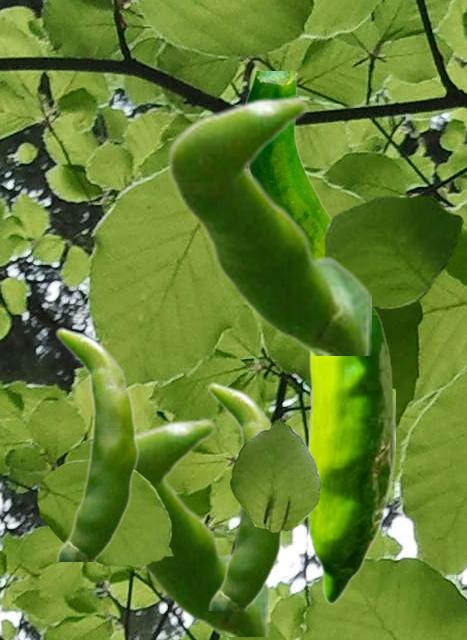green_chili: (167, 95, 370, 354), (137, 418, 268, 635), (304, 302, 394, 603), (54, 326, 139, 560), (206, 381, 285, 609), (243, 71, 330, 255)
